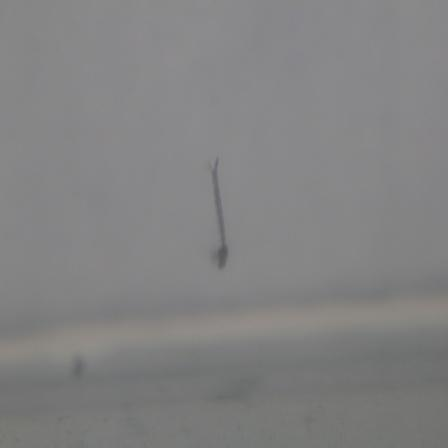Jentik-Nyamuk: (203, 153, 233, 274)
